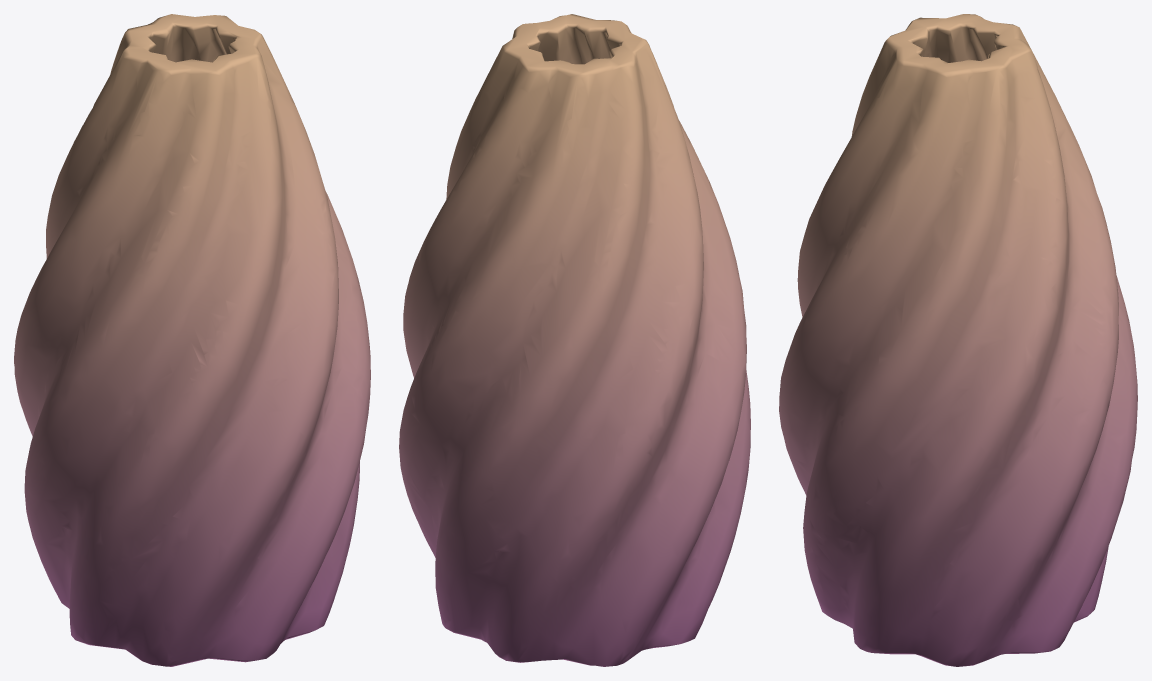
The model's file is vase.glb.
The picture shows the model from 3 angles, left to right: view 1: azimuth 30°, elevation 25°; view 2: azimuth 150°, elevation 25°; view 3: azimuth 270°, elevation 25°; orthographic projection.
Visible parts, largest first — view 1: vase; view 2: vase; view 3: vase.
Boxes of the visible parts, box(x1,y1,x2,y2) form: vase: box(14, 14, 370, 666); vase: box(399, 14, 750, 666); vase: box(779, 14, 1137, 666).
Bounding box in the file's own units: 0.0529 × 0.0925 × 0.0529.
